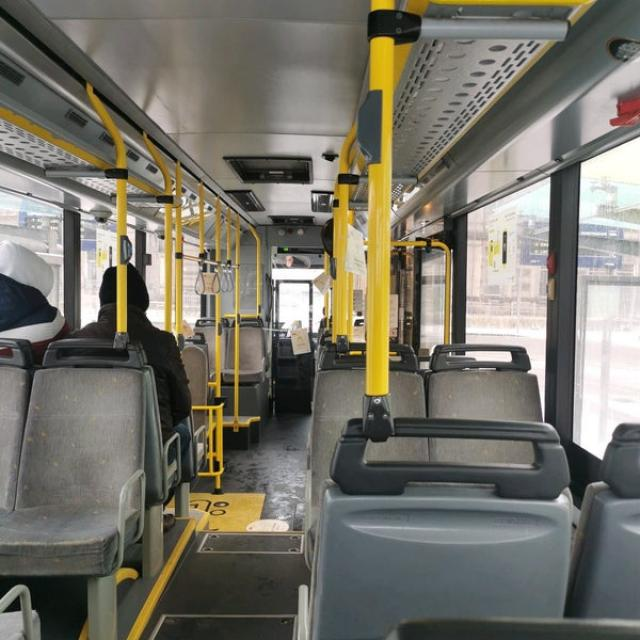empty-seat-frontal: (0, 337, 150, 578)
